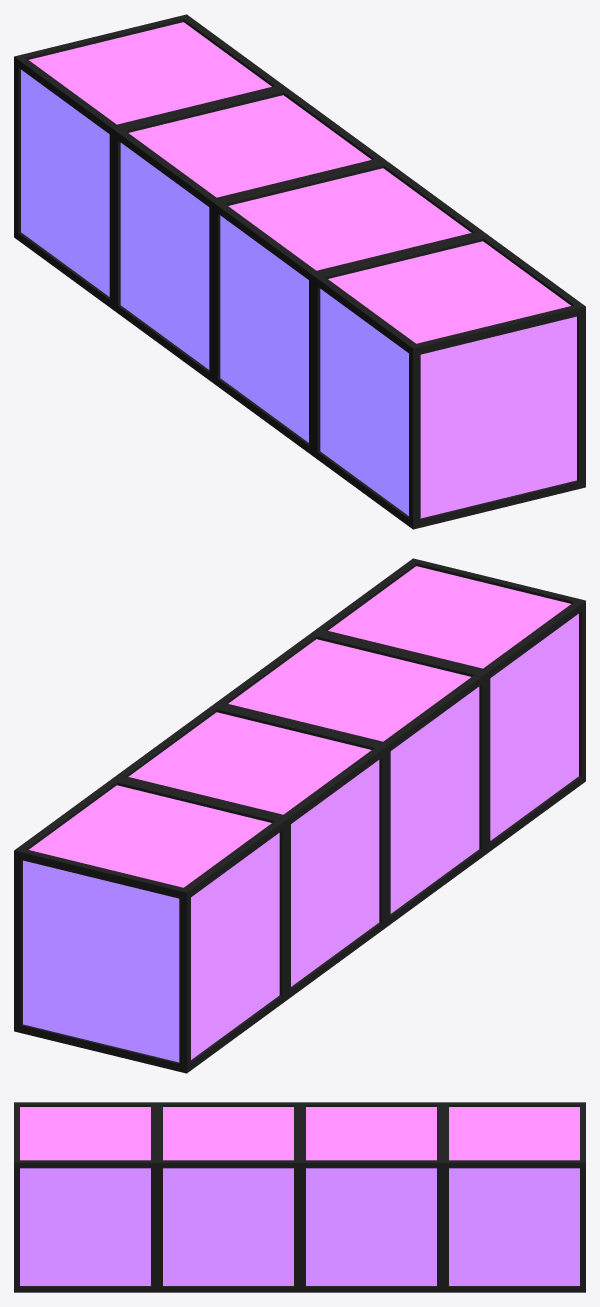
The model's file is hero.fbx.
3 renders of one model, top to bottom at view 1: azimuth 30°, elevation 25°; view 2: azimuth 150°, elevation 25°; view 3: azimuth 270°, elevation 25°, orthographic. The views are drawn at different scales.
Visible parts, largest first — view 1: Hero; view 2: Hero; view 3: Hero.
Boxes of the visible parts, bbox=[...] form: Hero: bbox=[14, 14, 585, 529]; Hero: bbox=[14, 558, 585, 1073]; Hero: bbox=[14, 1102, 585, 1292].
Size of the model in its own units: 39.44 by 39.44 by 158.
